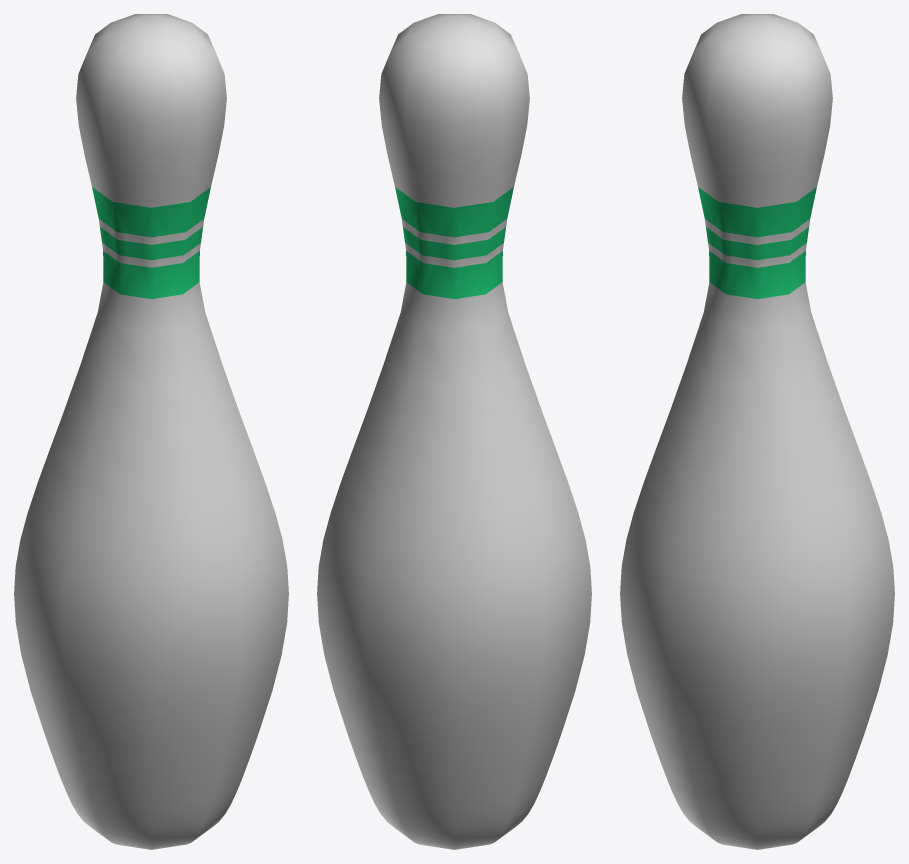
Rendered from Pin.dae.
The picture shows the model from 3 angles, left to right: view 1: azimuth 30°, elevation 25°; view 2: azimuth 150°, elevation 25°; view 3: azimuth 270°, elevation 25°; orthographic projection.
Parts seen in each view (by area): view 1: BezierCurve_001; view 2: BezierCurve_001; view 3: BezierCurve_001.
Part boxes in pixels (x1,y1,x2,y2): BezierCurve_001: (14, 14, 288, 849); BezierCurve_001: (317, 14, 591, 849); BezierCurve_001: (620, 14, 894, 849).
Size of the model in its own units: 1.15 by 1.16 by 3.81.
